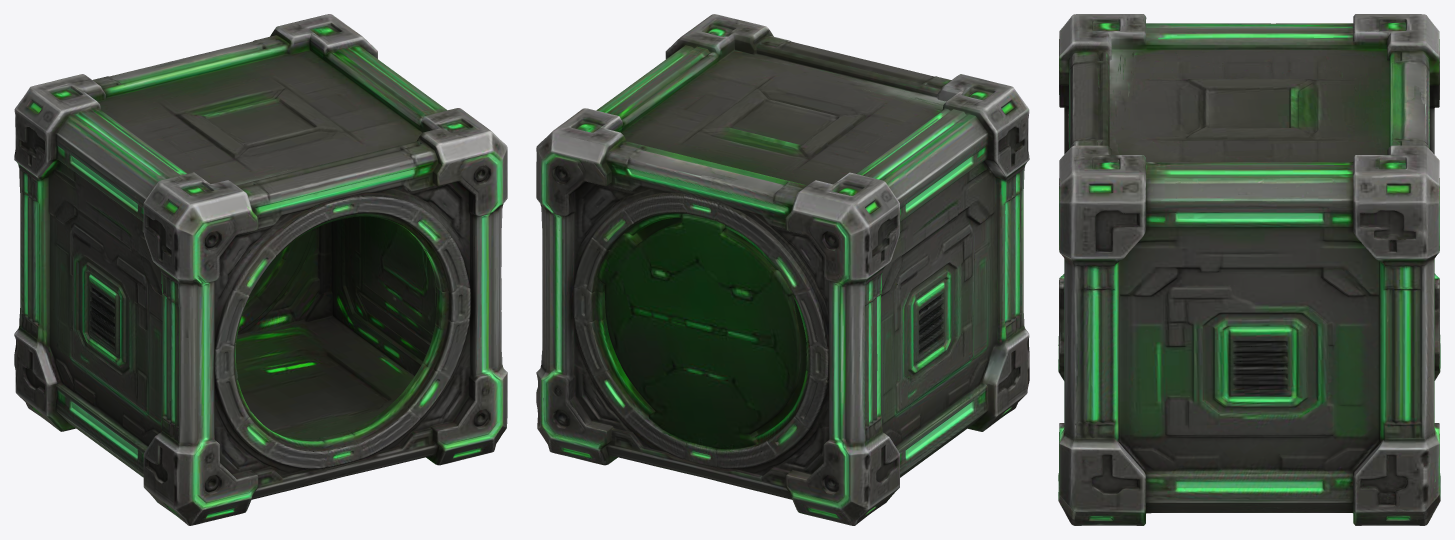
File: main-empty-vault.glb
3 renders of one model, left to right at view 1: azimuth 30°, elevation 25°; view 2: azimuth 150°, elevation 25°; view 3: azimuth 270°, elevation 25°, orthographic. The views are drawn at different scales.
Parts seen in each view (by area): view 1: material; view 2: material; view 3: material.
Boxes of the visible parts, x1,y1,x2,y2 form: material: (14,14,507,525); material: (536,14,1029,525); material: (1058,14,1440,525).
Size of the model in its own units: 0.774 by 0.7184 by 0.7068.
1 material, 1 textured.
